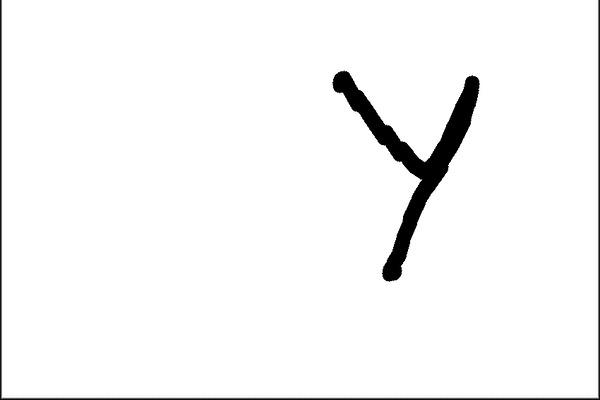Y: (321, 65, 493, 291)
